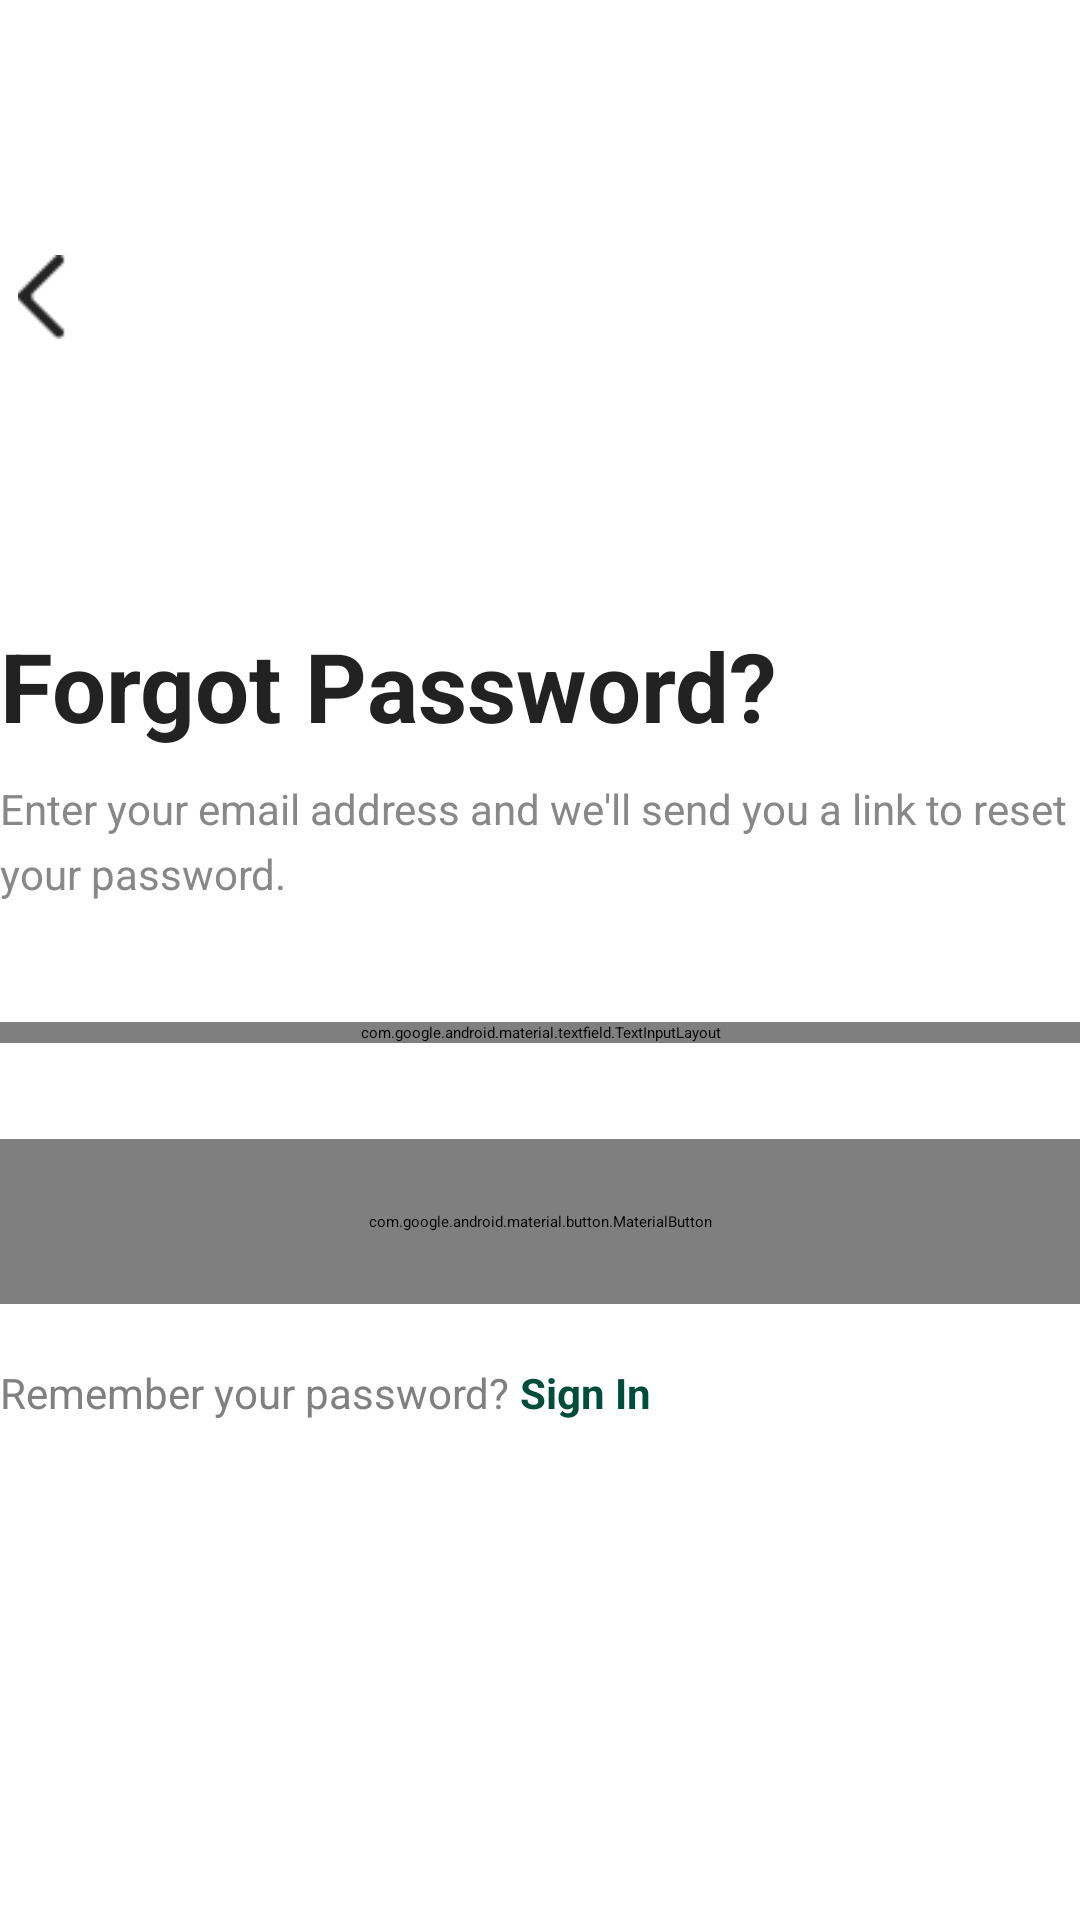

Point at icon controls on the screen. Image size 1080×1920, points as [x,y].
arrow back: [41,297]
